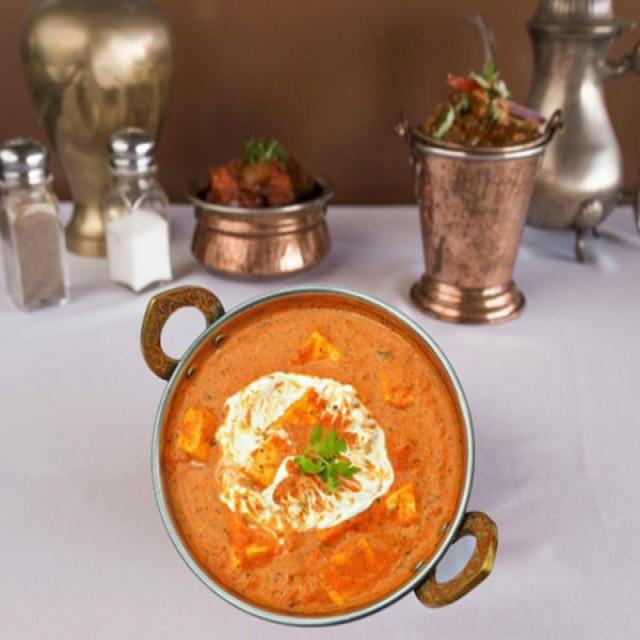ShahiPaneer: (166, 301, 460, 612)
